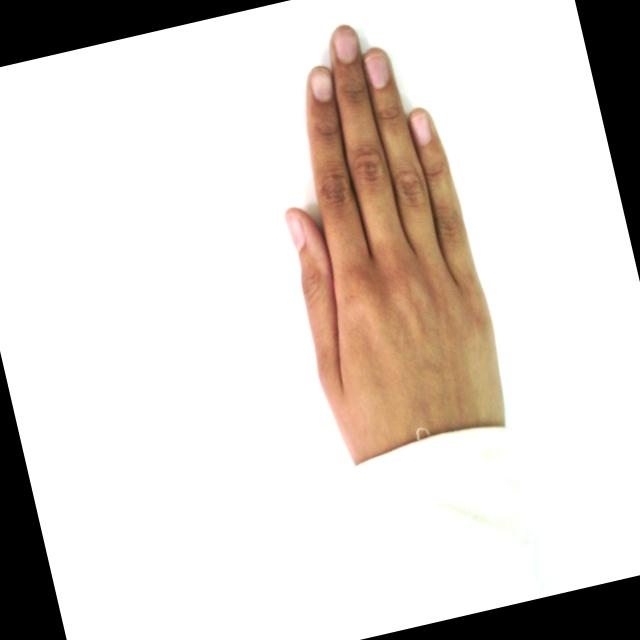Nail: (331, 23, 358, 61), (363, 46, 388, 87), (308, 65, 331, 101), (284, 210, 304, 251), (407, 111, 430, 145)
